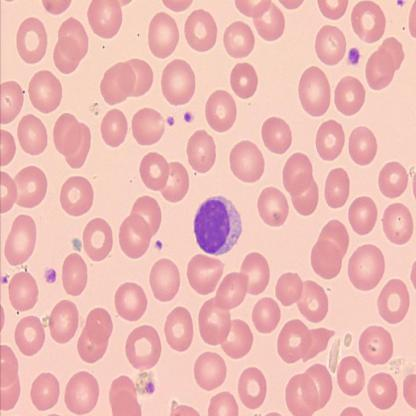Lymphocyte: (194, 194, 242, 256)
